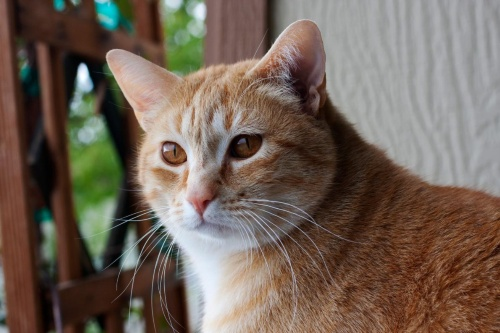cat: (102, 17, 489, 333)
